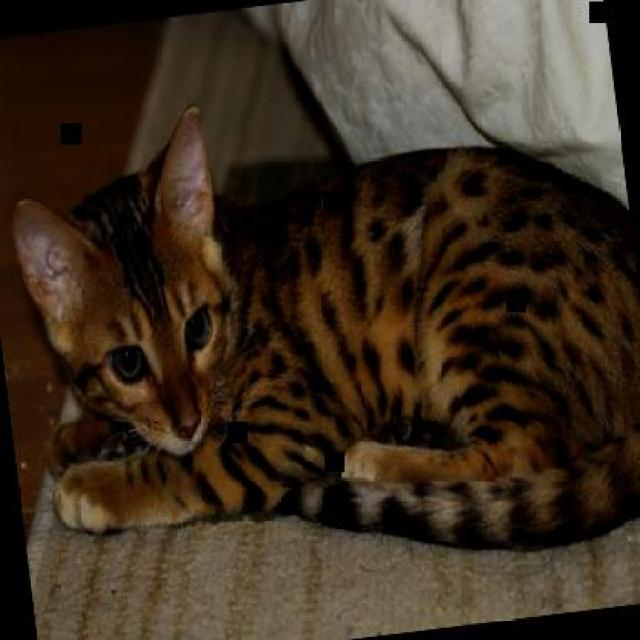cat: (0, 49, 638, 612)
